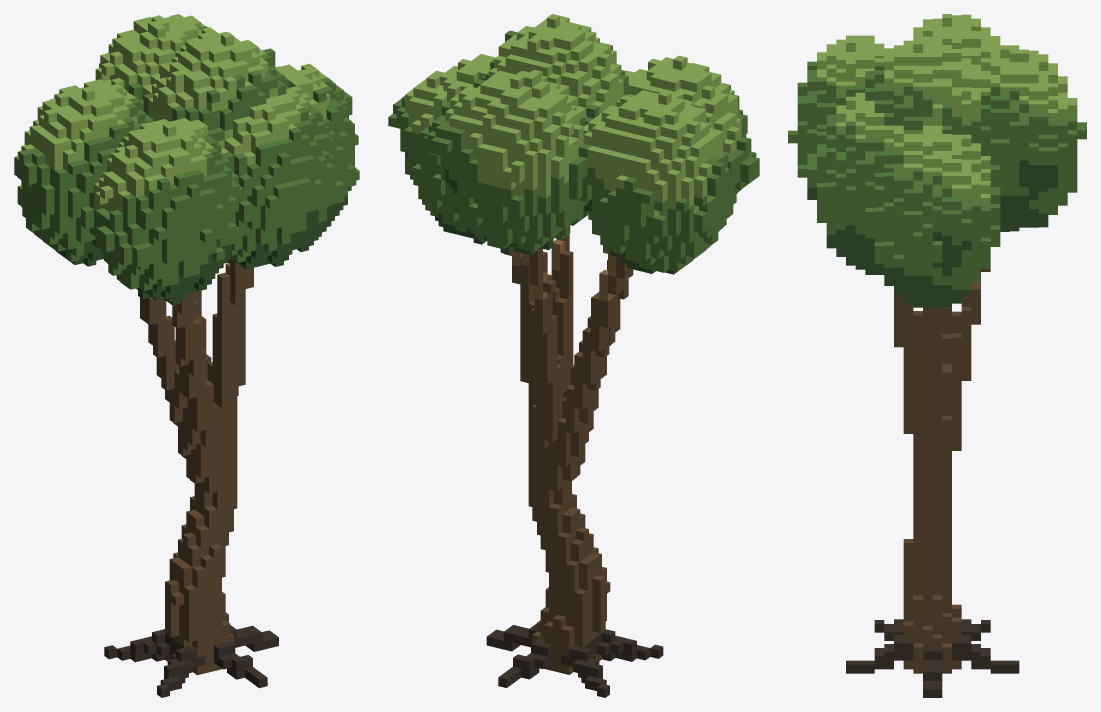
File: ancient_oak_v2_species2_near.glb
3 views of the same model, side by side, from view 1: azimuth 30°, elevation 25°; view 2: azimuth 150°, elevation 25°; view 3: azimuth 270°, elevation 25° (orthographic).
Parts seen in each view (by area): view 1: ancient_oak_v2_species2_near; view 2: ancient_oak_v2_species2_near; view 3: ancient_oak_v2_species2_near.
Boxes of the visible parts, box(x1,y1,x2,y2) form: ancient_oak_v2_species2_near: box(14, 14, 359, 697); ancient_oak_v2_species2_near: box(388, 14, 759, 697); ancient_oak_v2_species2_near: box(788, 14, 1086, 697).
Size of the model in its own units: 4.88 by 9 by 3.88.
Materials: 1 (1 with a texture image).
